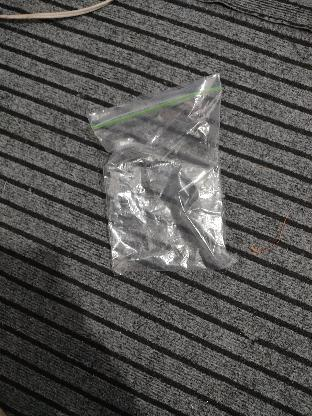Plastic Bag: (88, 74, 236, 274)
